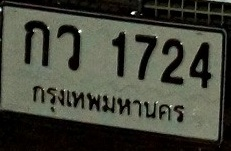txt01: (21, 19, 51, 69)
txt32: (55, 23, 82, 73)
